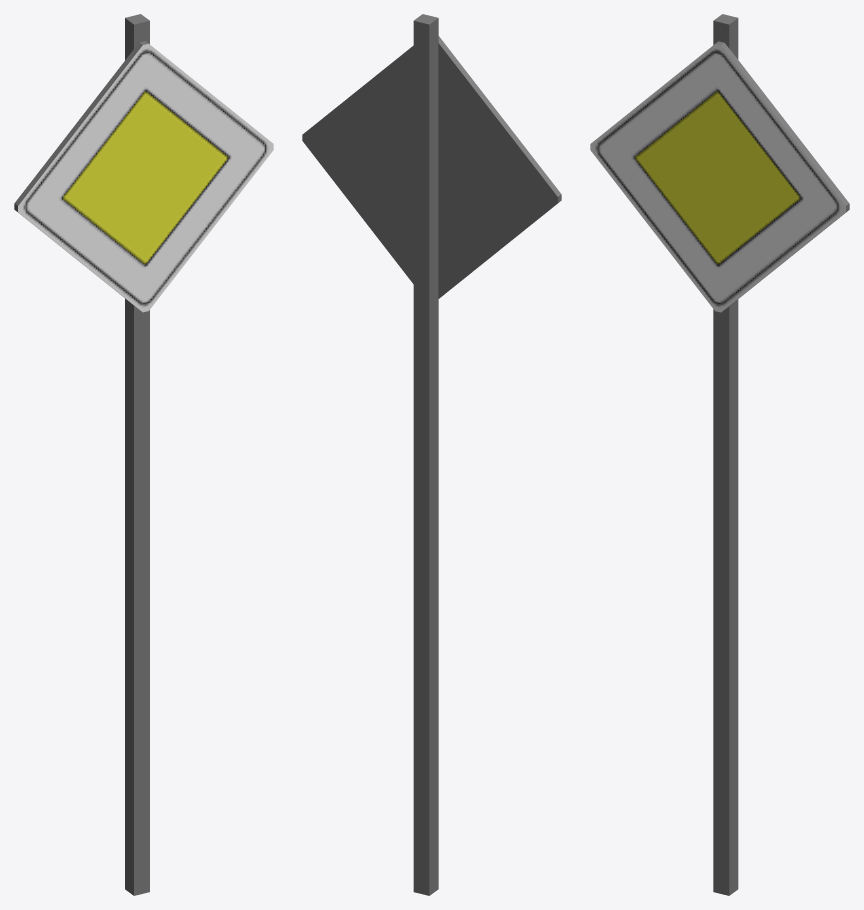
File: PriorityRoad.obj
The picture shows the model from 3 angles, left to right: view 1: azimuth 30°, elevation 25°; view 2: azimuth 150°, elevation 25°; view 3: azimuth 330°, elevation 25°; orthographic projection.
Parts seen in each view (by area): view 1: Sign_PriorityRoad; view 2: Sign_PriorityRoad; view 3: Sign_PriorityRoad.
Boxes of the visible parts, x1,y1,x2,y2 form: Sign_PriorityRoad: (14,14,273,895); Sign_PriorityRoad: (302,14,561,895); Sign_PriorityRoad: (590,14,849,895).
Size of the model in its own units: 1.35 by 4.42 by 0.1166.
Materials: 2 (2 with a texture image).
